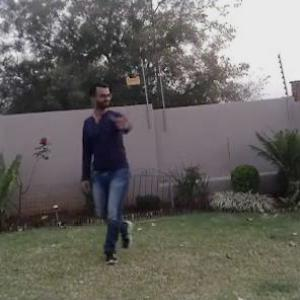takeoff-hand: (111, 111, 134, 136)
